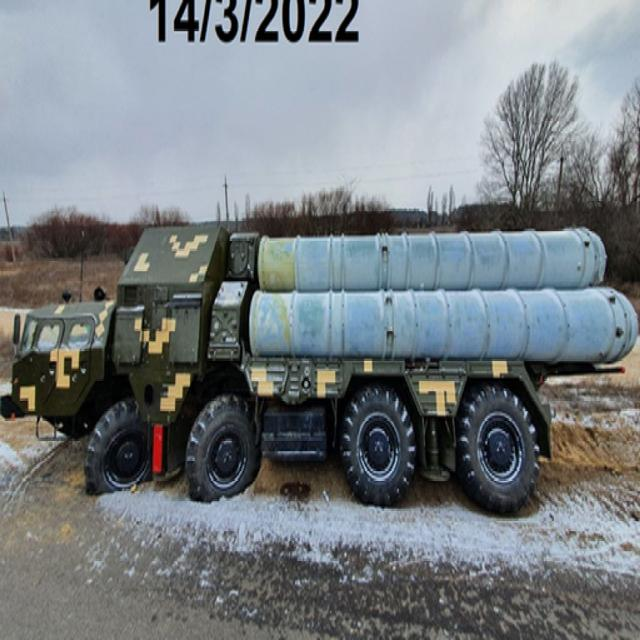MLRS: (2, 209, 638, 520)
